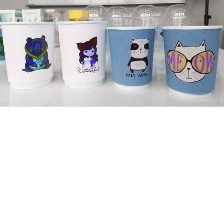paper_cup: (159, 20, 224, 101), (0, 16, 59, 93), (101, 21, 159, 94), (53, 16, 109, 91)
